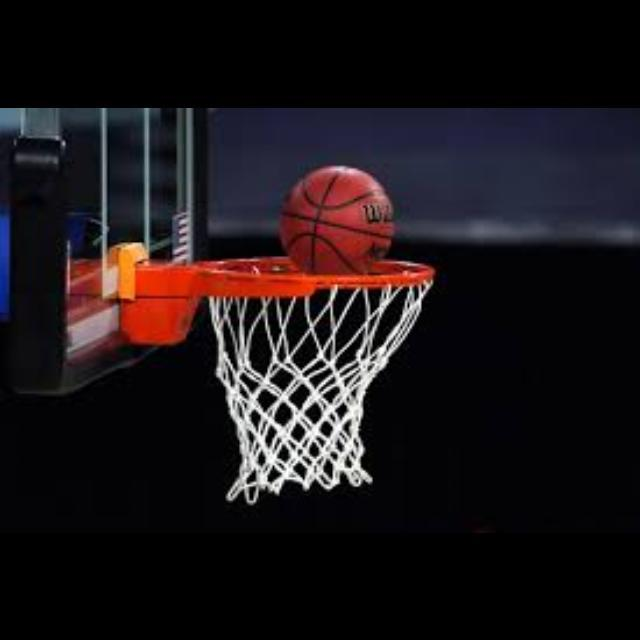basketball: (284, 166, 392, 276)
rim: (200, 257, 434, 501)
